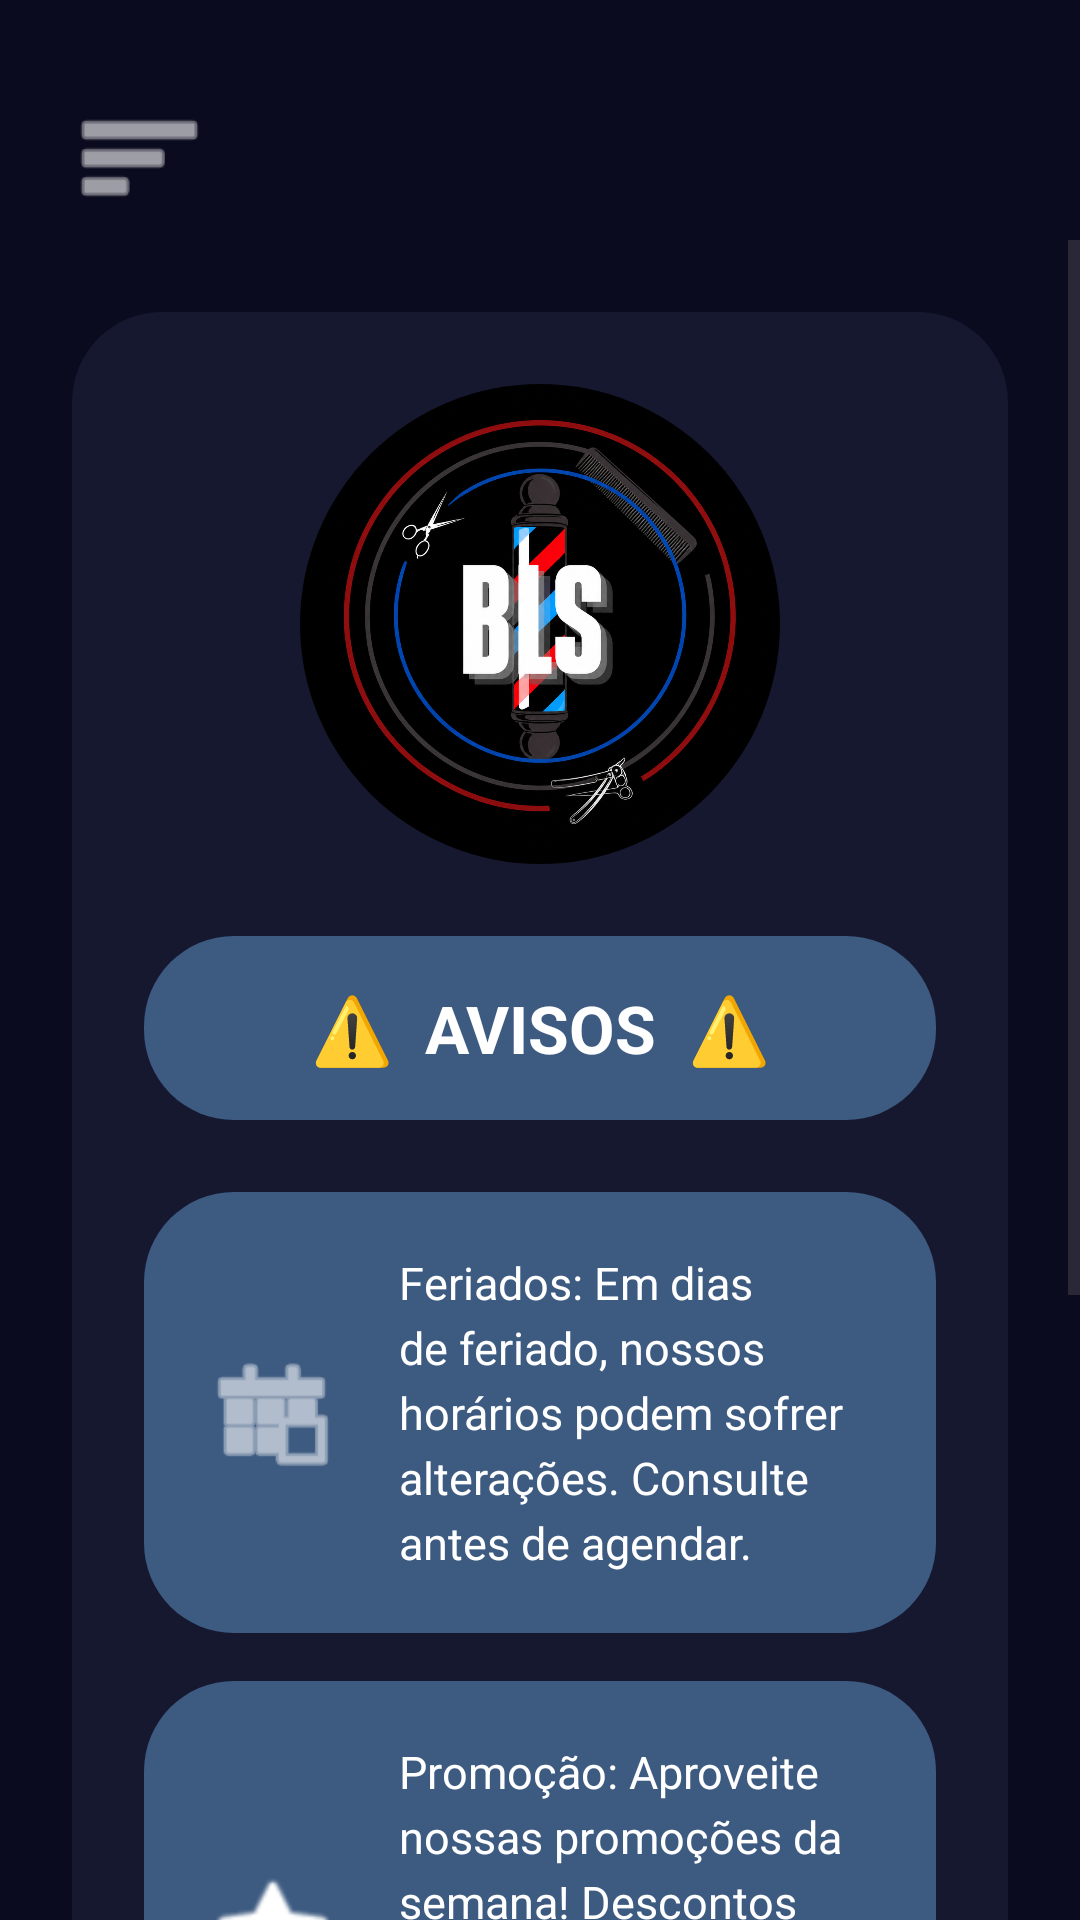

Icon bounding boxes for this 1080px x 1920px phone screenshot, format bbox=[x1, y1, x2, y2]:
sort by size: bbox=[81, 120, 198, 196]
today: bbox=[218, 1363, 328, 1466]
